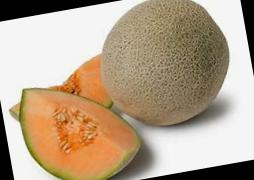Melon Ripe: (90, 0, 240, 136), (14, 69, 146, 180)
